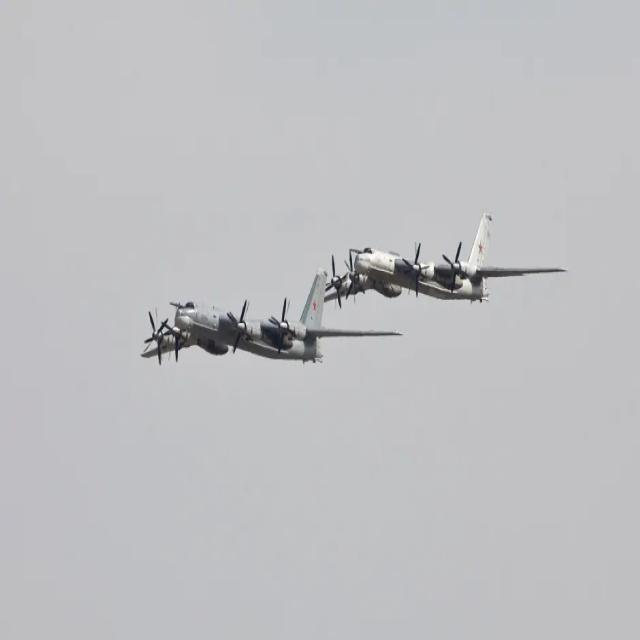MIL_Plane: (139, 266, 404, 367), (324, 208, 568, 311)
